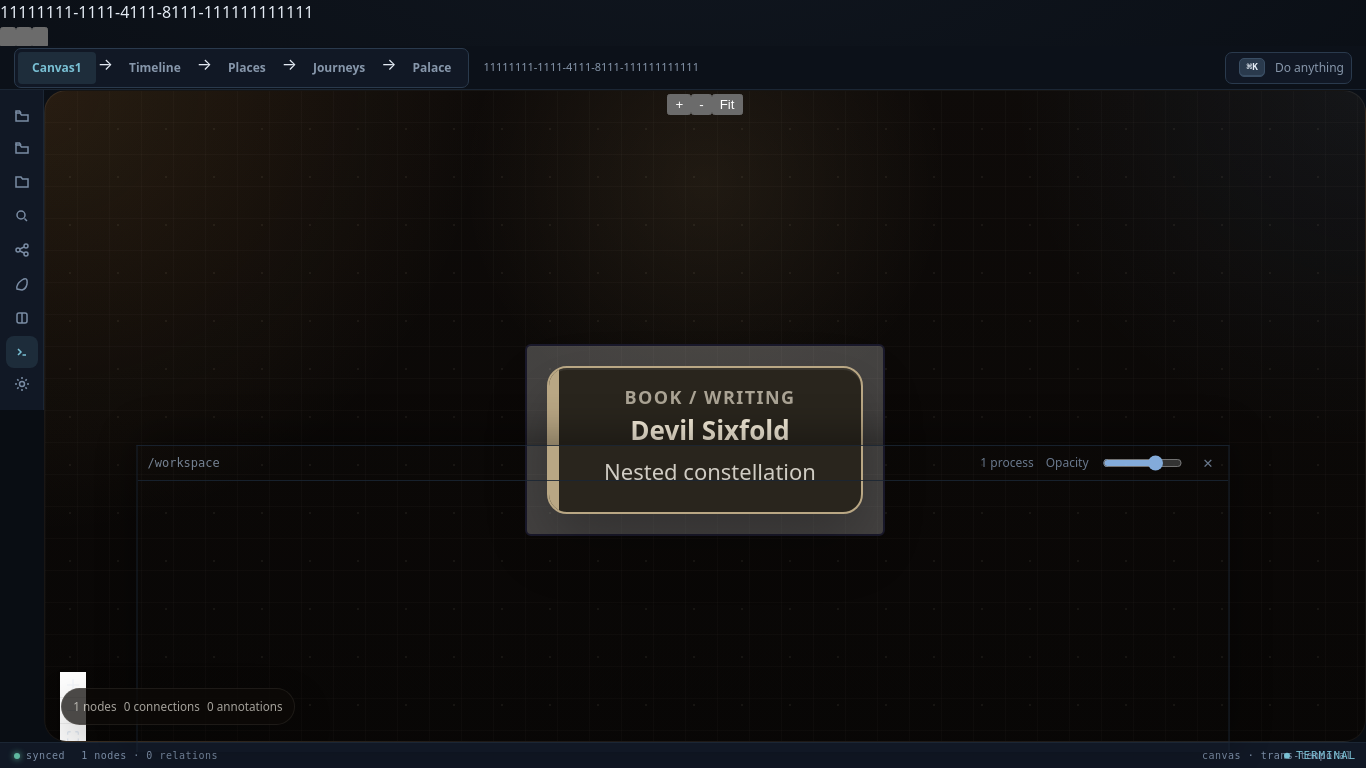
it: Shell frame › opens a portal's target canvas on double-click instead of opening the reader panel
Double-click the element with class "react-flow__node" at [705, 440], box [525,344,885,536]
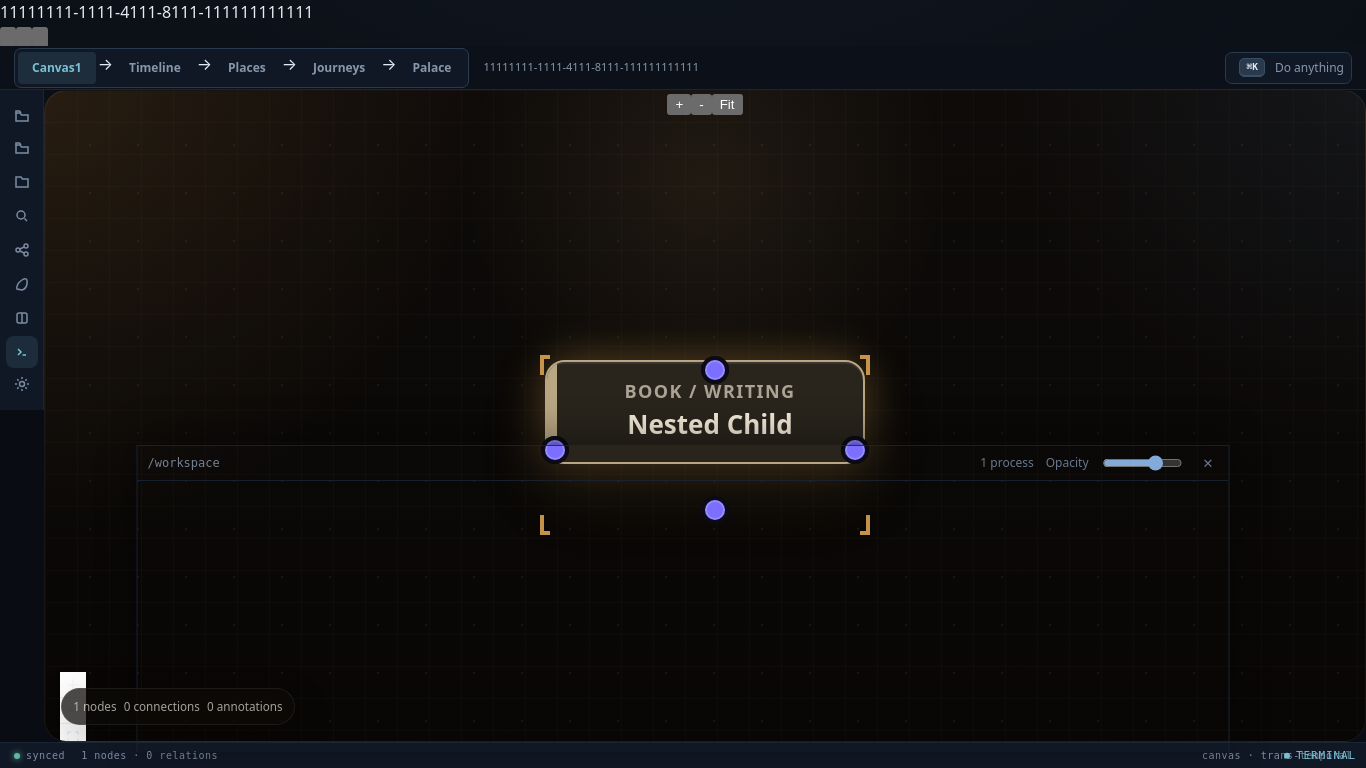
Result: the element with class "react-flow__node" is shown at [545,360,865,520]
